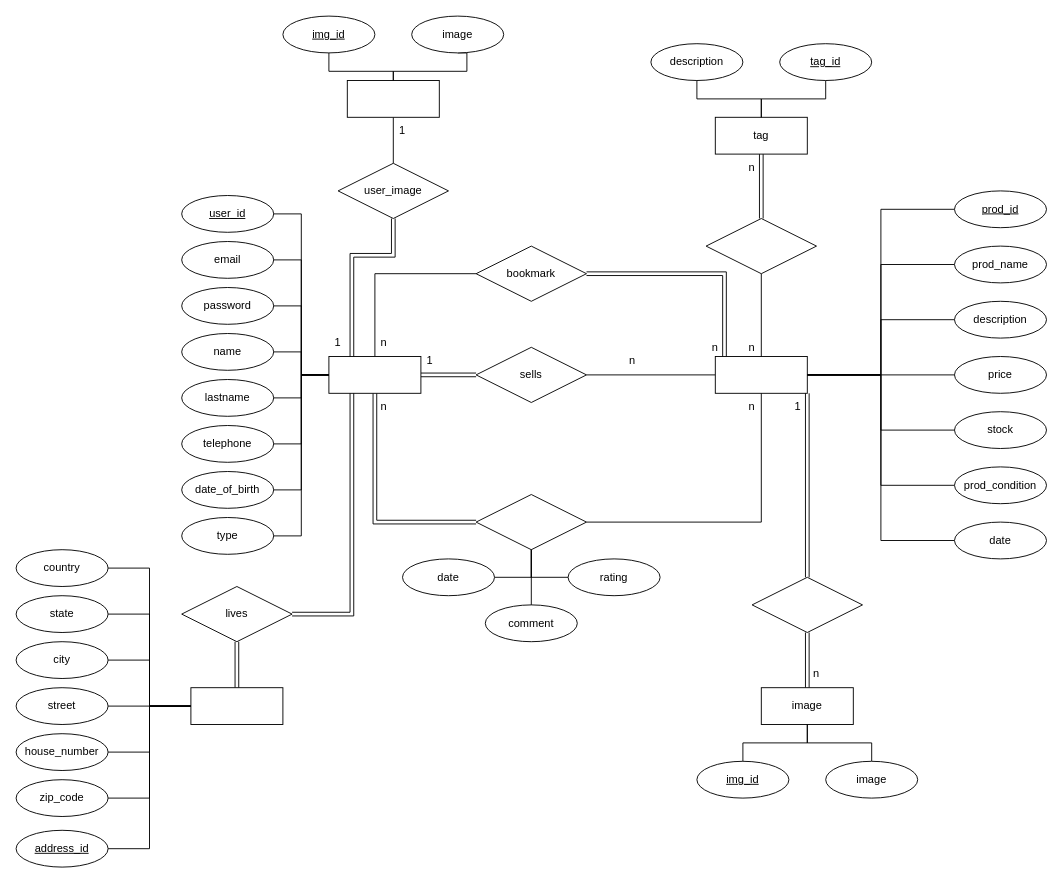
The diagram is 1063 pixels wide and 883 high, and some of its shapes have lost their labels. The shapes that lost their labels are listed below. From the top down, each one's centre as x and y in pixels, then its label:
At point (392, 98): "profile_image".
At point (760, 246): "prod_tag".
At point (374, 374): "user".
At point (760, 374): "product".
At point (530, 522): "reviews".
At point (806, 604): "prod_image".
At point (236, 705): "address".
